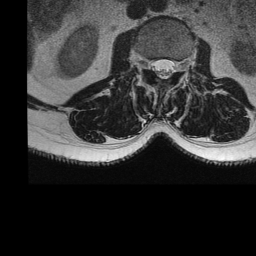CCS_normal: (160, 53, 167, 84)
LFS_normal: (175, 53, 183, 76)
LLS_normal: (167, 53, 175, 81)
RFS_normal: (143, 52, 152, 78)
RLS_normal: (152, 54, 160, 80)
